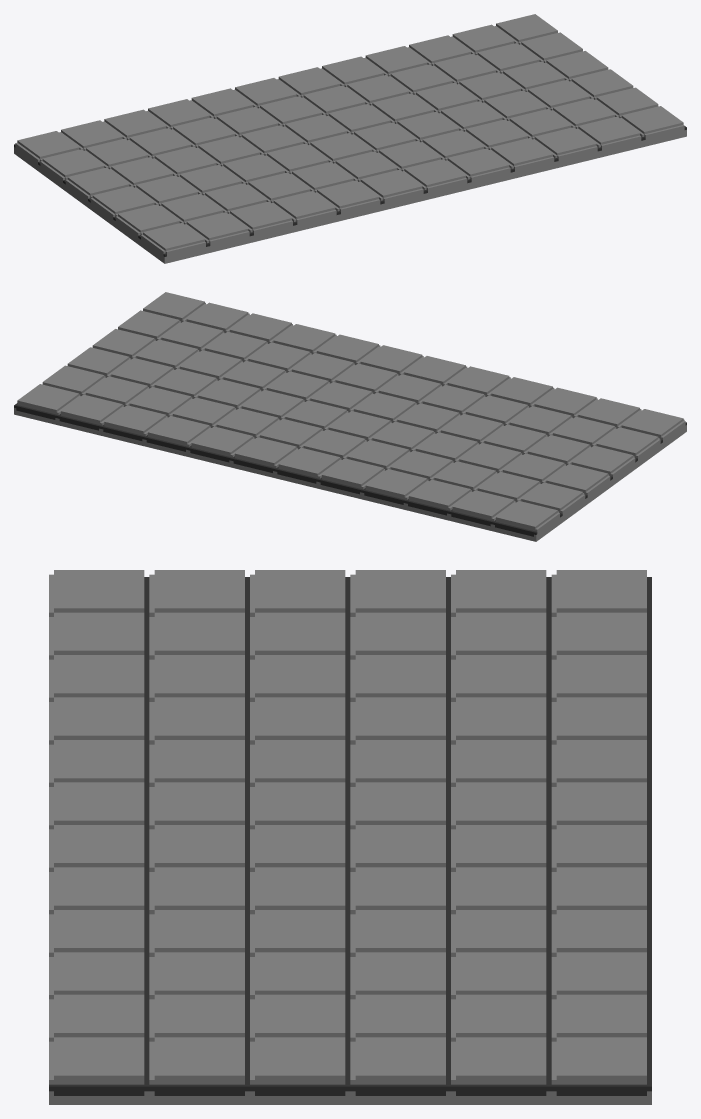
The model's file is path.obj.
3 renders of one model, top to bottom at view 1: azimuth 30°, elevation 25°; view 2: azimuth 150°, elevation 25°; view 3: azimuth 270°, elevation 25°, orthographic. The views are drawn at different scales.
Bounding box in the file's own units: 24 × 0.6 × 12.
1 material, 1 textured.
